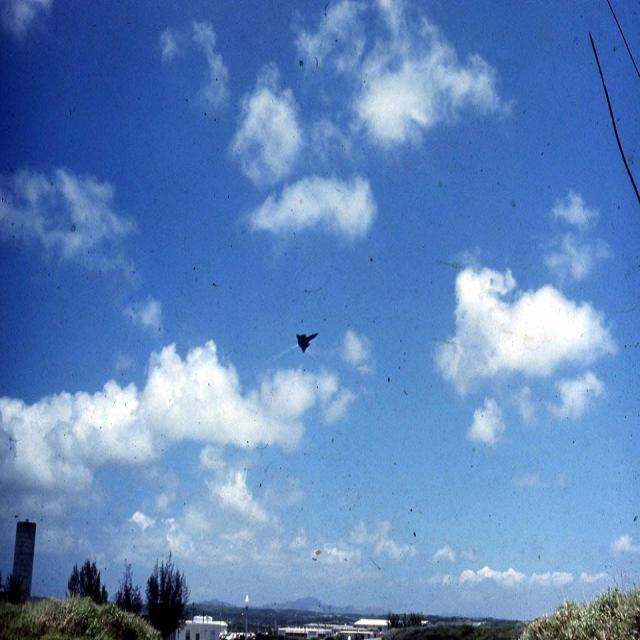MIL_Plane: (296, 332, 320, 353)
